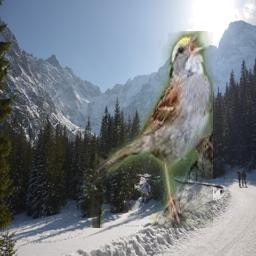Sparrow: (83, 31, 213, 228)
